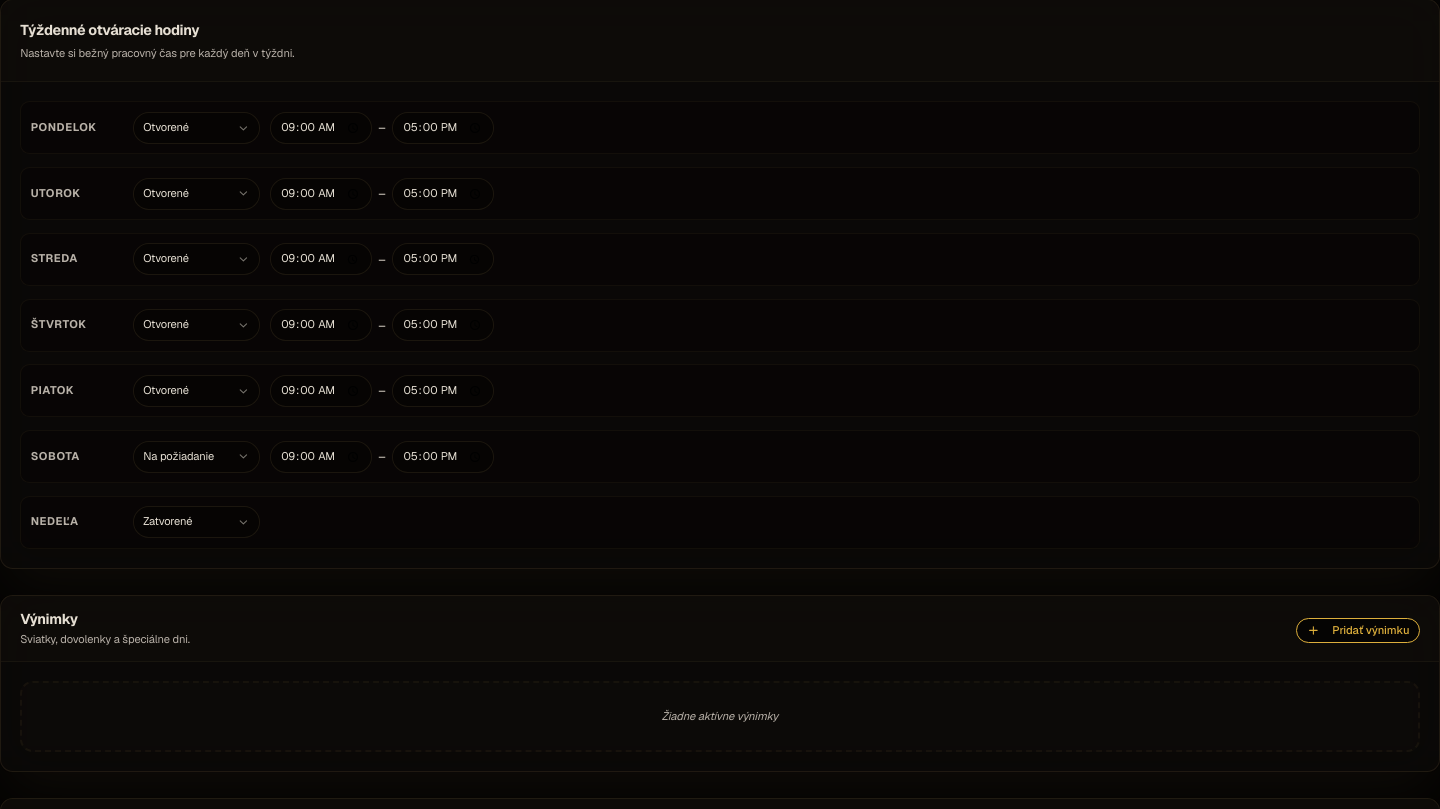
Test: BusinessHoursEditor › adds override and link rows from CTA buttons
expect the text "Výnimky" is shown: met, box [20,610,78,628]
Click the button "Pridať výnimku" at coordinates (1358, 631), box [1296,618,1420,643]
(page scrolled)
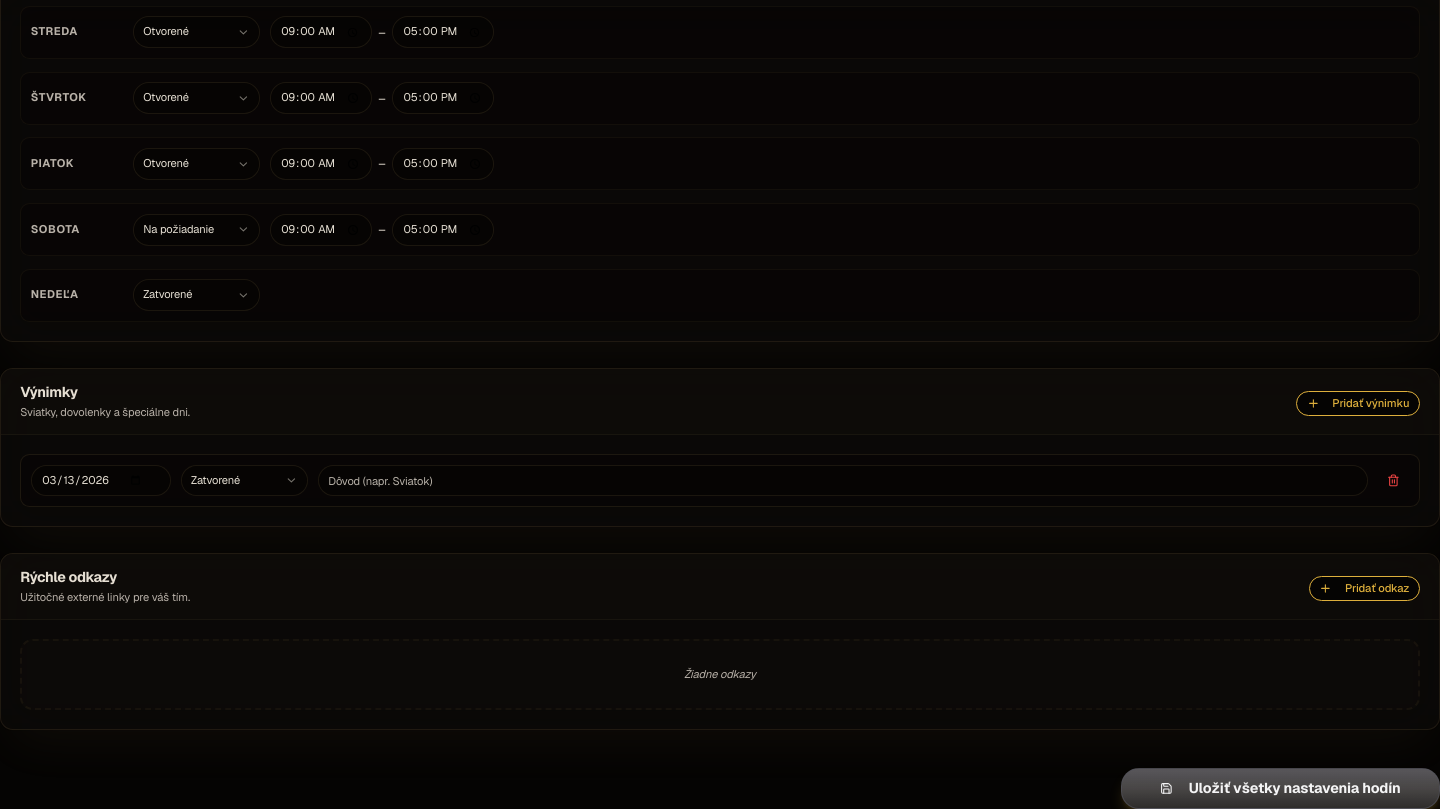
Click the button "Pridať odkaz" at coordinates (1364, 589), box [1309,576,1420,601]
(page scrolled)
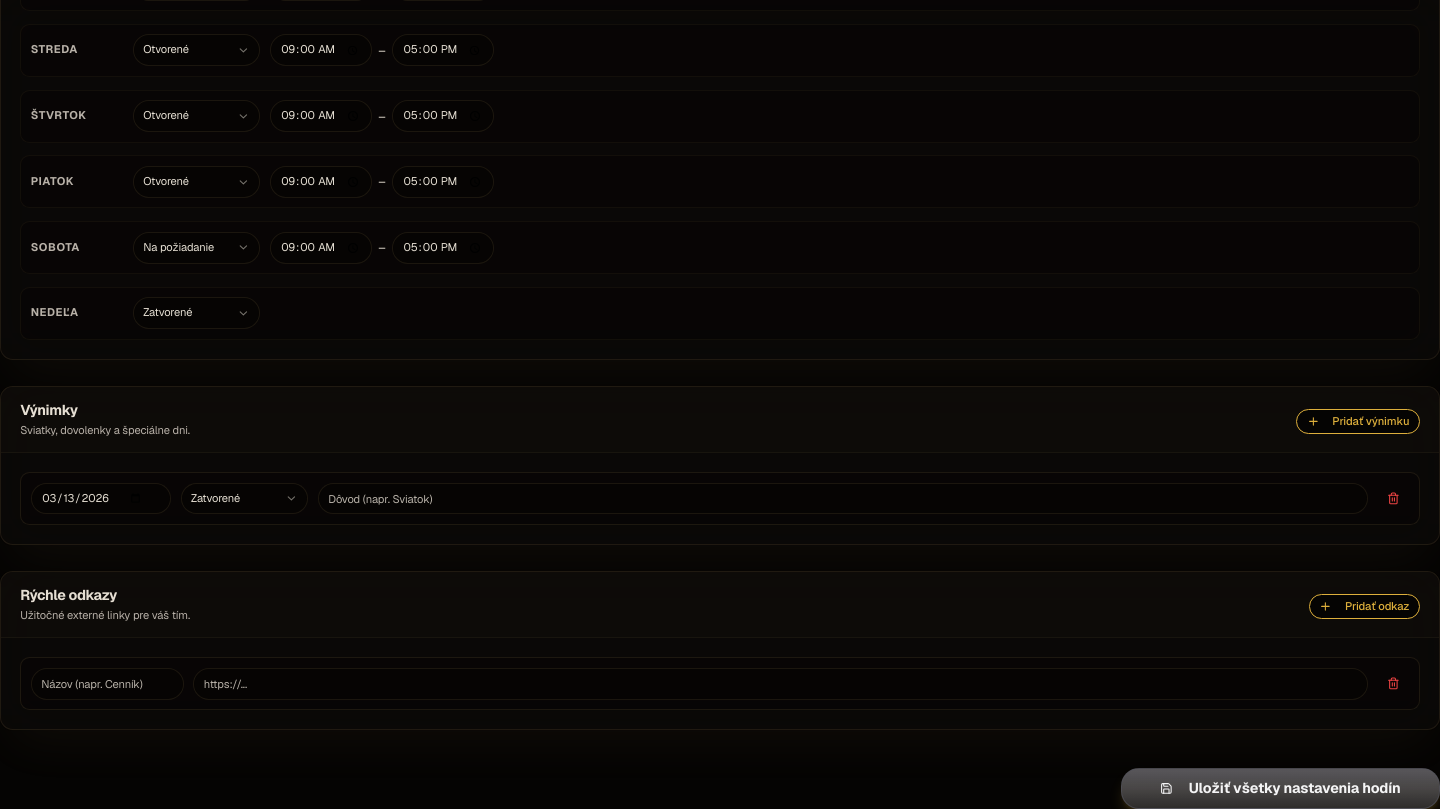
expect the date field showing "2026-03-13" is shown: met, box [31,483,171,514]
expect the field with placeholder "Dôvod (napr. Sviatok)" is shown: met, box [318,483,1368,514]
expect the field with placeholder "Názov (napr. Cenník)" is shown: met, box [31,668,184,700]
